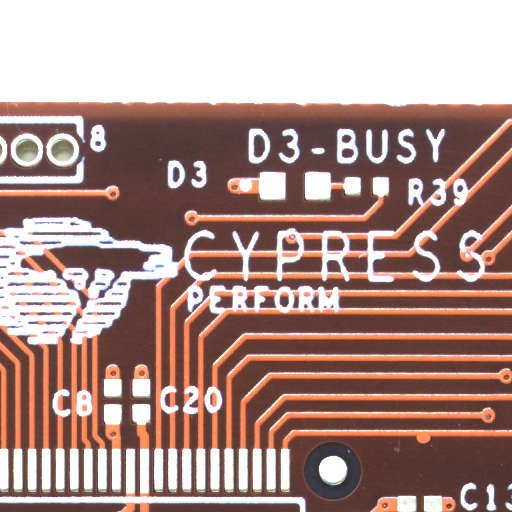Spur: (423, 439, 440, 450)
